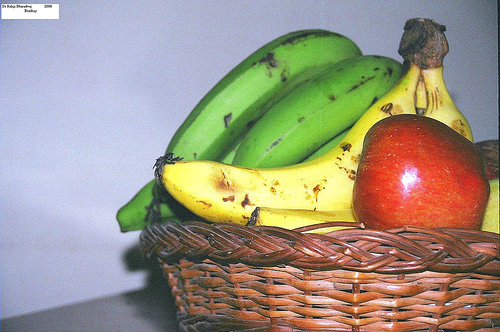apple: (350, 113, 491, 232)
